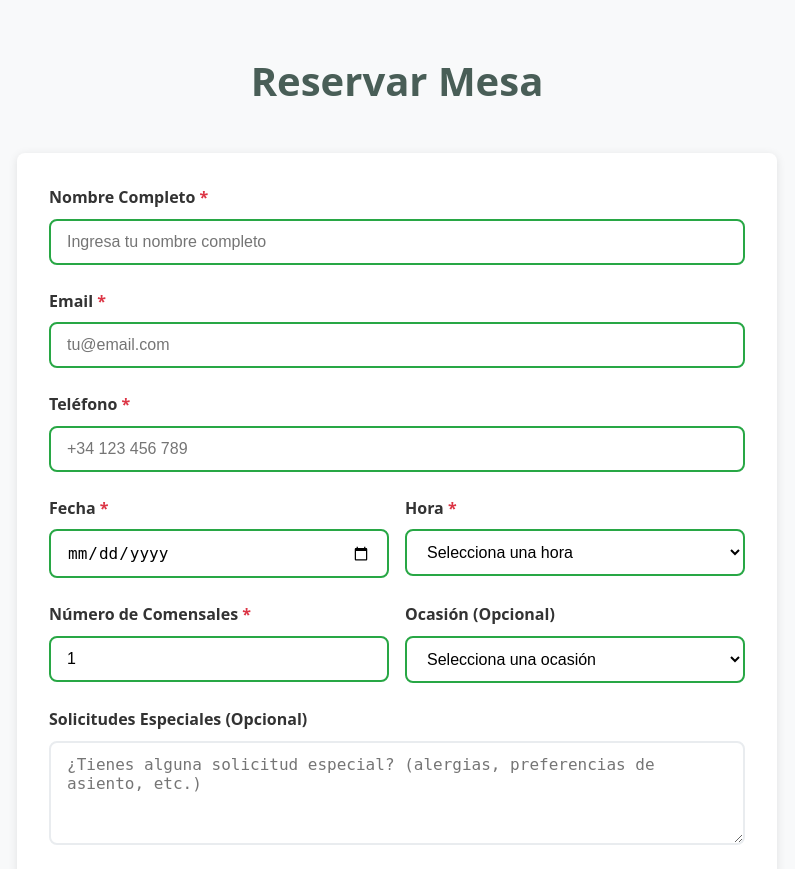
Test: BookingForm › validates email format
Type "invalid-email" into the field labelled "Email" at (397, 345), box [49,322,745,368]
(page scrolled)
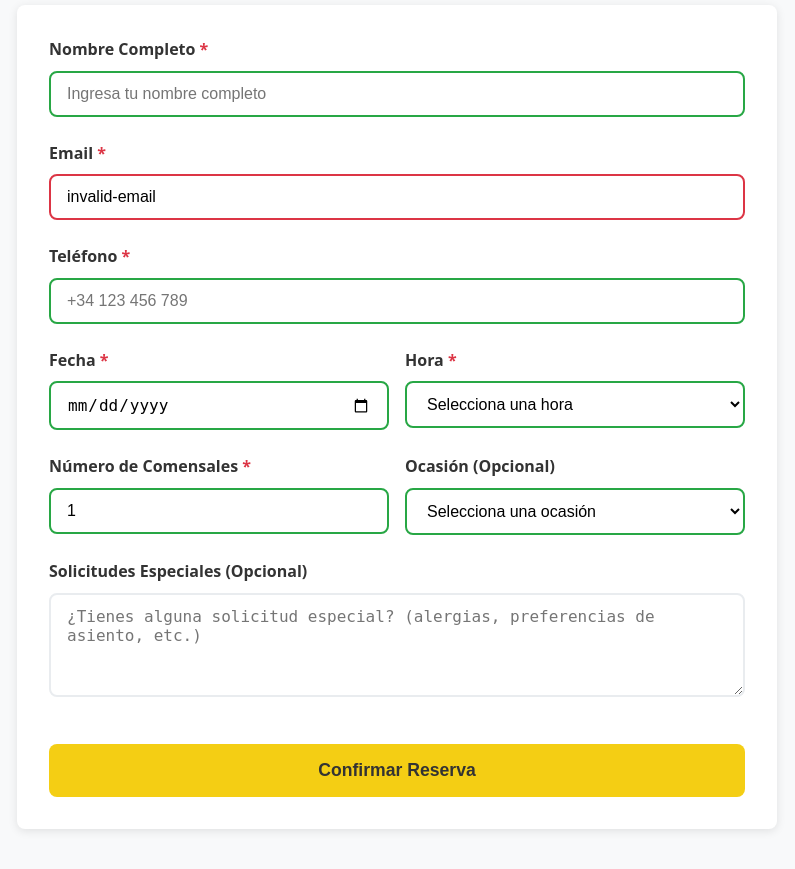
Click the button "Confirmar Reserva" at (397, 771), box [49,744,745,797]
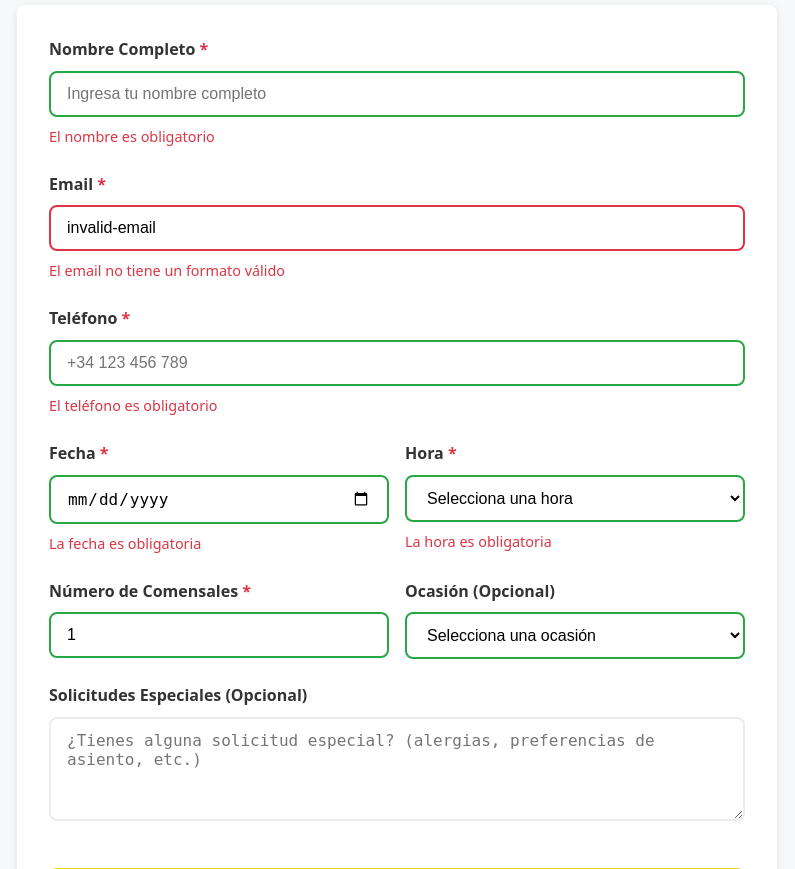
Result: the text "El email no tiene un formato válido" is shown at [49,261,285,280]
